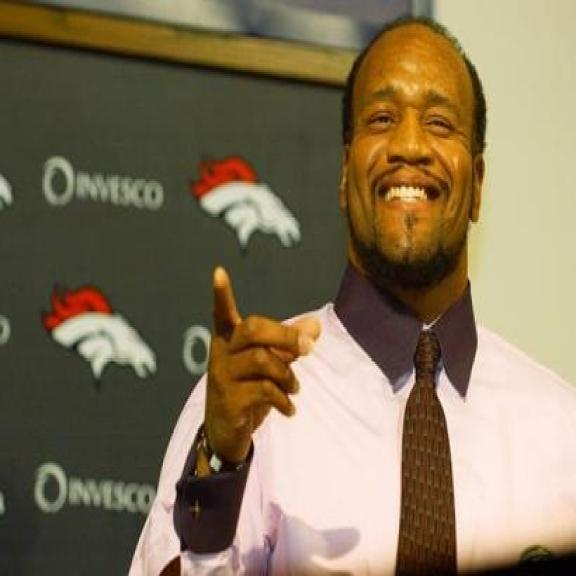face: (333, 34, 491, 285)
